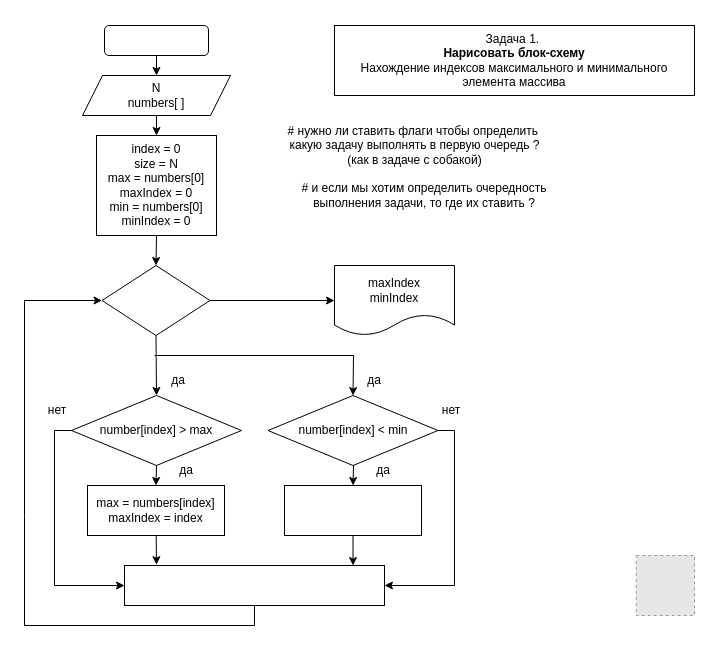
This 712x651 diagram has some shape labels left out. Grey dashed boxes stand in for pictures. Each missing label, with the centre of its shape:
"index < size" belongs at (x=155, y=300).
"index = index + 1" belongs at (x=254, y=585).
"min = numbers[index] minIndex = index" belongs at (x=353, y=510).
"старт" belongs at (x=156, y=40).
